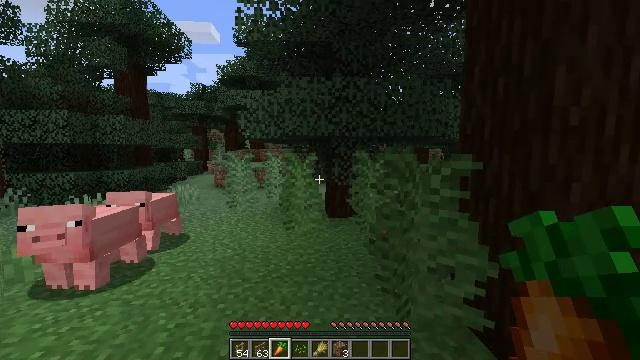pig: (17, 205, 141, 291), (103, 189, 177, 251)
